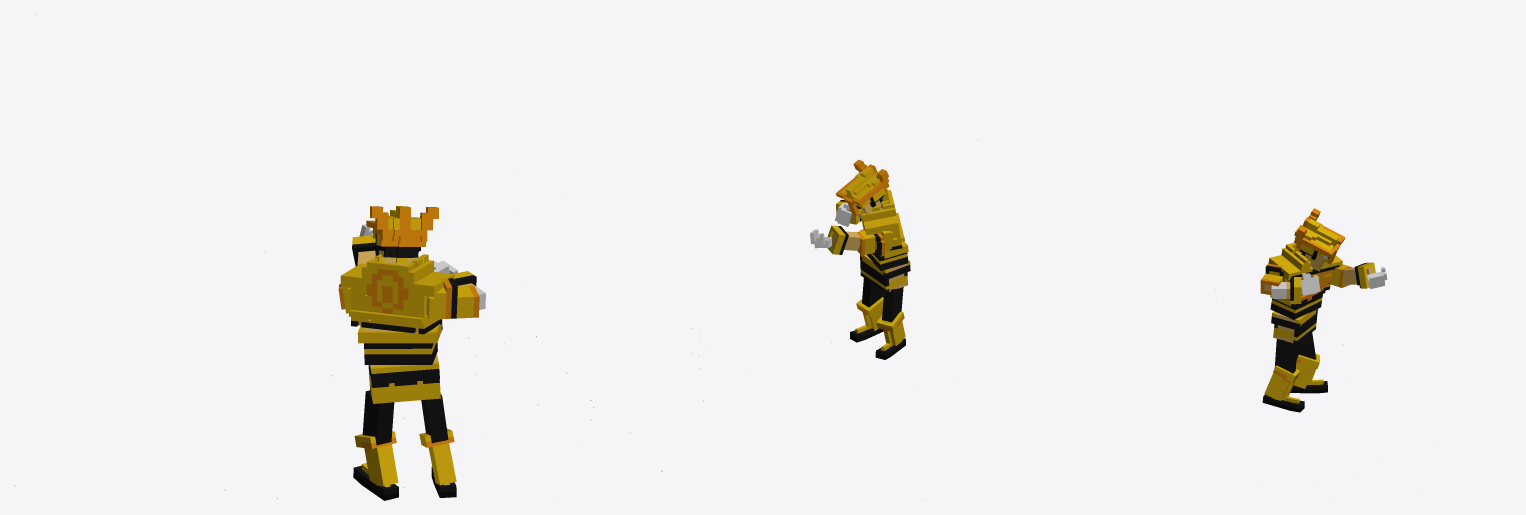
Rendered from GunHoldingPose.fbx.
3 views of the same model, side by side, from view 1: azimuth 30°, elevation 25°; view 2: azimuth 150°, elevation 25°; view 3: azimuth 270°, elevation 25° (orthographic). The views are drawn at different scales.
Parts seen in each view (by area): view 1: Chunk__2_2_2__2, Chunk__1_2_2__2, Chunk__2_1_2_, Chunk__2_1_2__1, Chunk__1_2_2__3, Chunk__2_0_2__15, Chunk__2_3_2__13, Chunk__2_2_2__13, Chunk__1_0_2__19, Chunk__1_1_2__1, Chunk__2_0_2__14; view 2: Chunk__2_2_2__2, Chunk__2_1_2_, Chunk__2_3_2__13, Chunk__3_2_2__9, Chunk__2_1_2__1, Chunk__2_0_2__15, Chunk__2_2_2__8; view 3: Chunk__1_2_2__2, Chunk__1_1_2_, Chunk__1_0_2__19, Chunk__2_3_2__13, Chunk__2_2_2__2, Chunk__3_2_2__9, Chunk__2_0_2__15, Chunk__1_2_2__3, Chunk__1_1_2__1.
Part boxes in pixels (bbox=[...]): Chunk__2_2_2__2: bbox=[340, 254, 404, 331]; Chunk__1_2_2__2: bbox=[401, 254, 454, 334]; Chunk__2_1_2_: bbox=[368, 365, 423, 403]; Chunk__2_1_2__1: bbox=[357, 325, 415, 364]; Chunk__1_2_2__3: bbox=[427, 278, 479, 319]; Chunk__2_0_2__15: bbox=[354, 431, 398, 486]; Chunk__2_3_2__13: bbox=[368, 206, 421, 236]; Chunk__2_2_2__13: bbox=[373, 233, 420, 264]; Chunk__1_0_2__19: bbox=[425, 428, 456, 485]; Chunk__1_1_2__1: bbox=[414, 319, 442, 364]; Chunk__2_0_2__14: bbox=[362, 406, 393, 445]; Chunk__2_2_2__2: bbox=[861, 191, 904, 253]; Chunk__2_1_2_: bbox=[866, 256, 910, 293]; Chunk__2_3_2__13: bbox=[848, 164, 889, 202]; Chunk__3_2_2__9: bbox=[827, 225, 860, 254]; Chunk__2_1_2__1: bbox=[867, 241, 908, 270]; Chunk__2_0_2__15: bbox=[876, 311, 905, 345]; Chunk__2_2_2__8: bbox=[863, 230, 892, 256]; Chunk__1_2_2__2: bbox=[1268, 244, 1308, 299]; Chunk__1_1_2_: bbox=[1271, 311, 1303, 344]; Chunk__1_0_2__19: bbox=[1264, 365, 1299, 400]; Chunk__2_3_2__13: bbox=[1294, 208, 1338, 247]; Chunk__2_2_2__2: bbox=[1289, 243, 1342, 295]; Chunk__3_2_2__9: bbox=[1343, 262, 1375, 288]; Chunk__2_0_2__15: bbox=[1293, 354, 1319, 388]; Chunk__1_2_2__3: bbox=[1260, 263, 1288, 294]; Chunk__1_1_2__1: bbox=[1270, 295, 1303, 319].
Size of the model in its own units: 1010 by 1023 by 1112.
